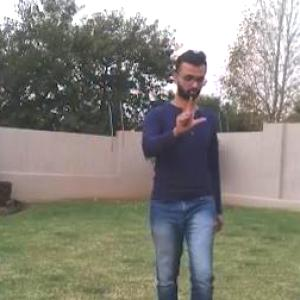land_hand: (169, 96, 208, 140)
